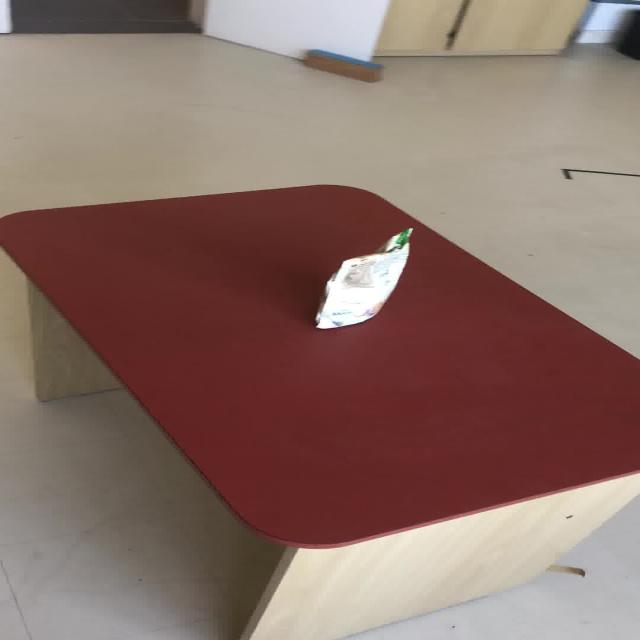corn flakes: (311, 226, 413, 329)
